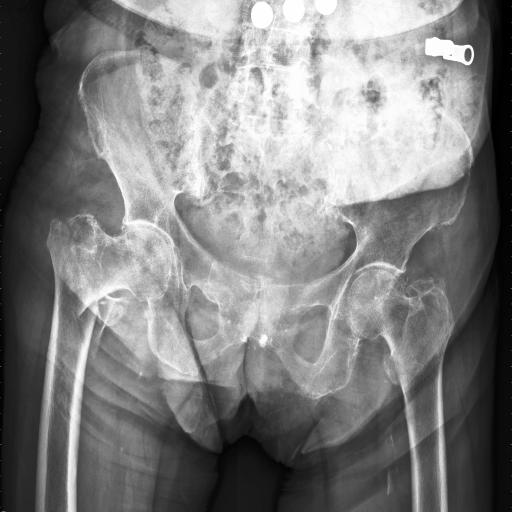intertrochanteric: (66, 214, 172, 317), (46, 218, 98, 370)
lesser-trochanter: (91, 291, 128, 360)
normal: (347, 269, 455, 447)
